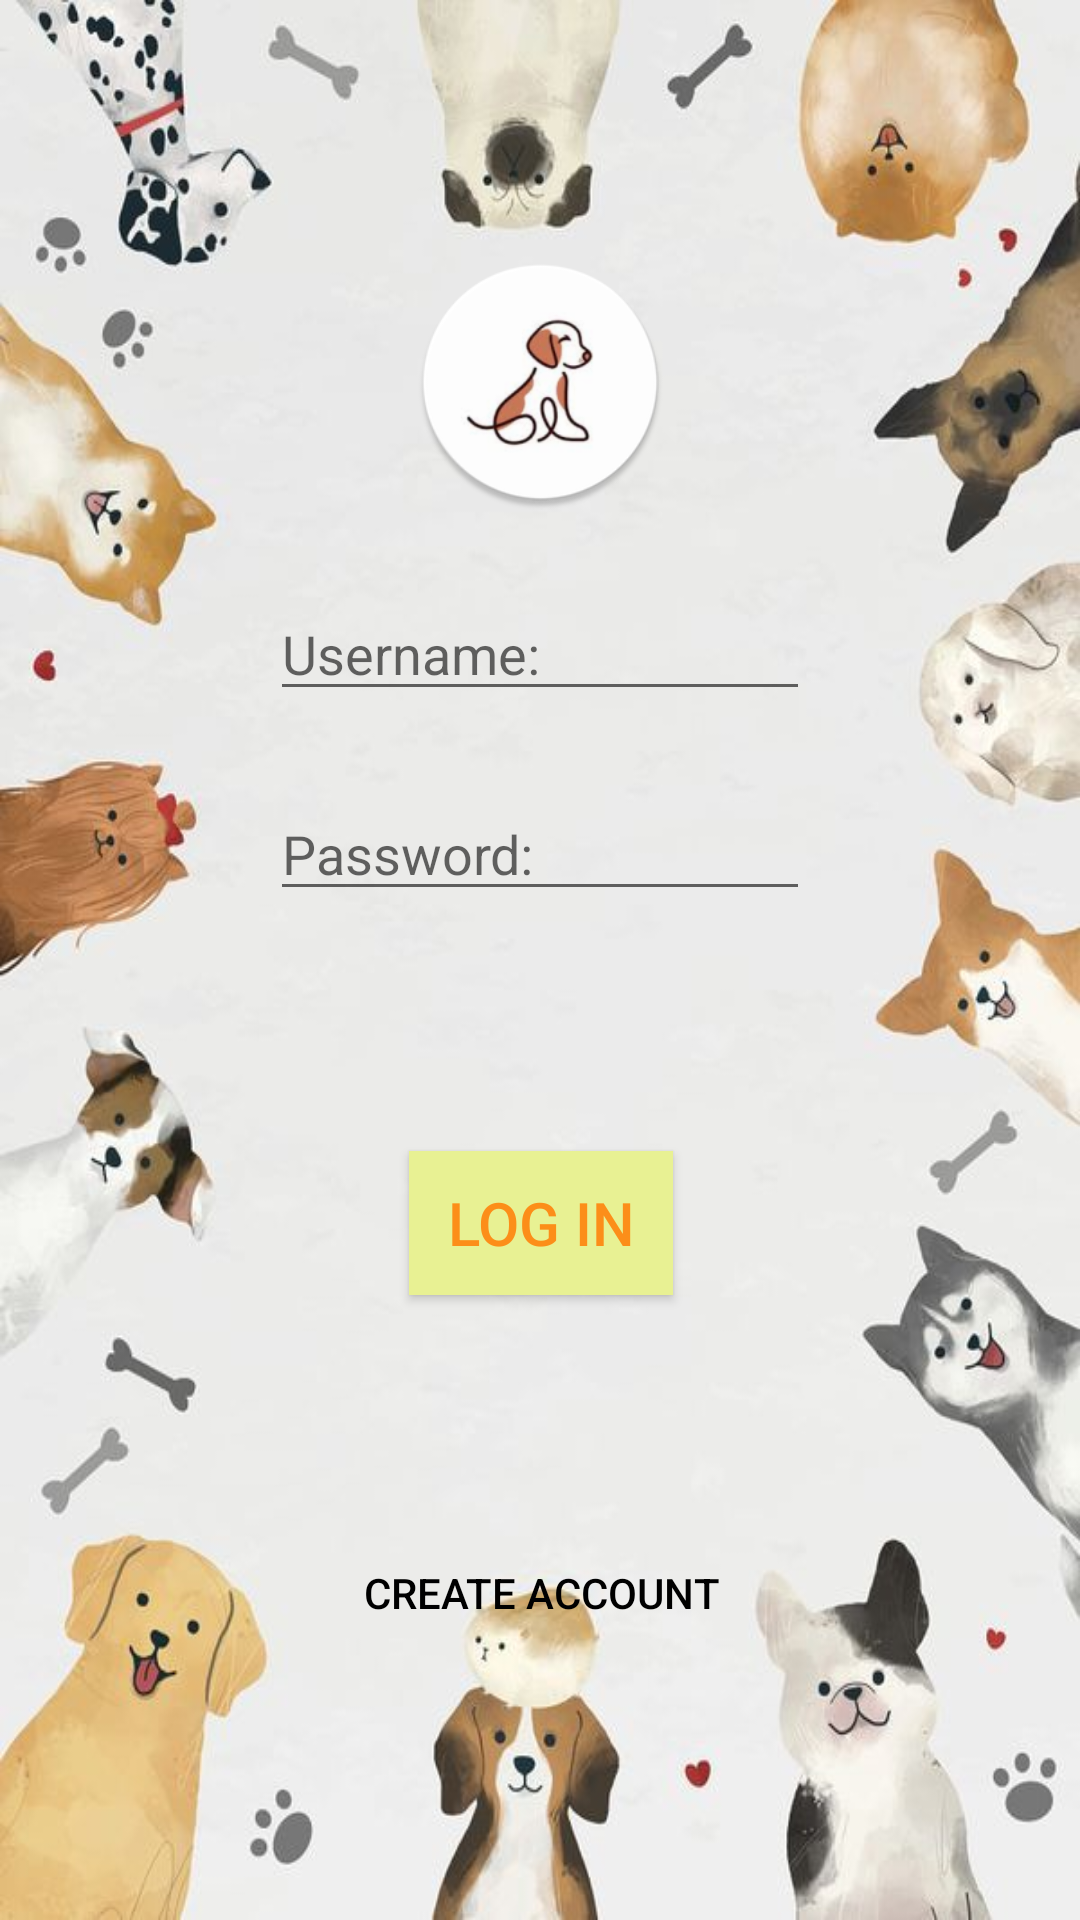

Where icons sit on this 1080w x 1920h app screen, as bbox=[x1, y1, x2, y2]:
dog app profile round: bbox=[421, 265, 660, 508]
